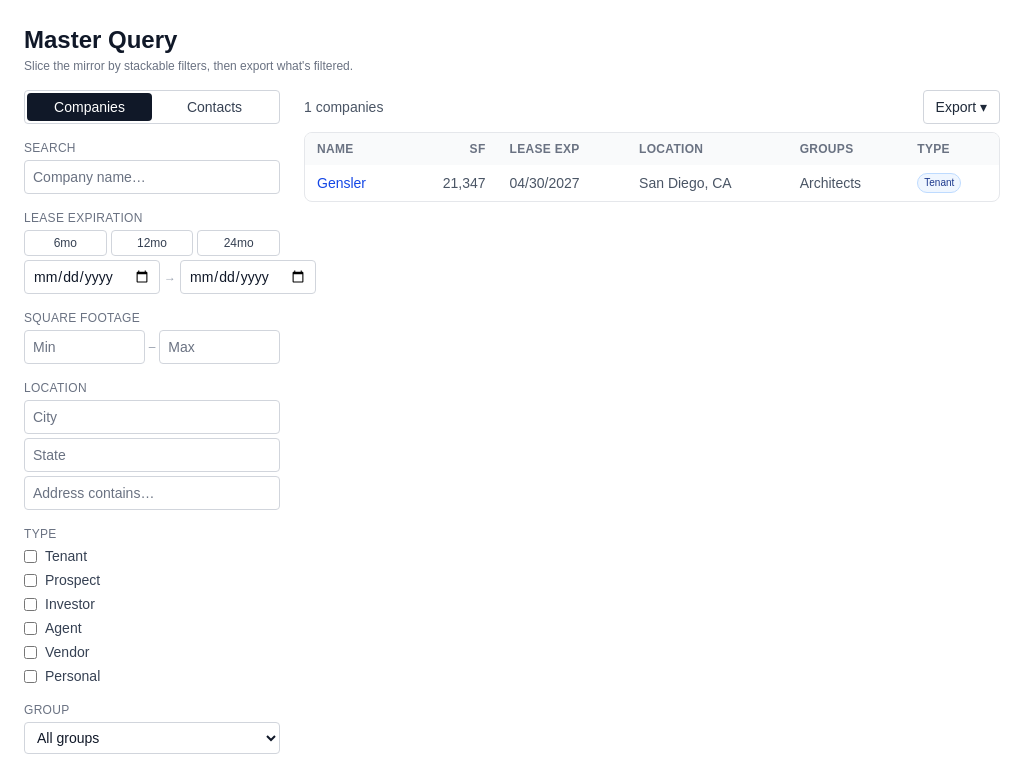
it: Master Query page › Export button is enabled with results and disabled when the set is empty
Expected: the link "Gensler" is shown, top-left (317, 175), bottom-right (366, 191)
Expected: the button "Export ▾" is enabled, top-left (923, 90), bottom-right (1000, 124)
Type "none" into the field with placeholder "Company name…" at (152, 177), box top-left (24, 160), bottom-right (280, 194)
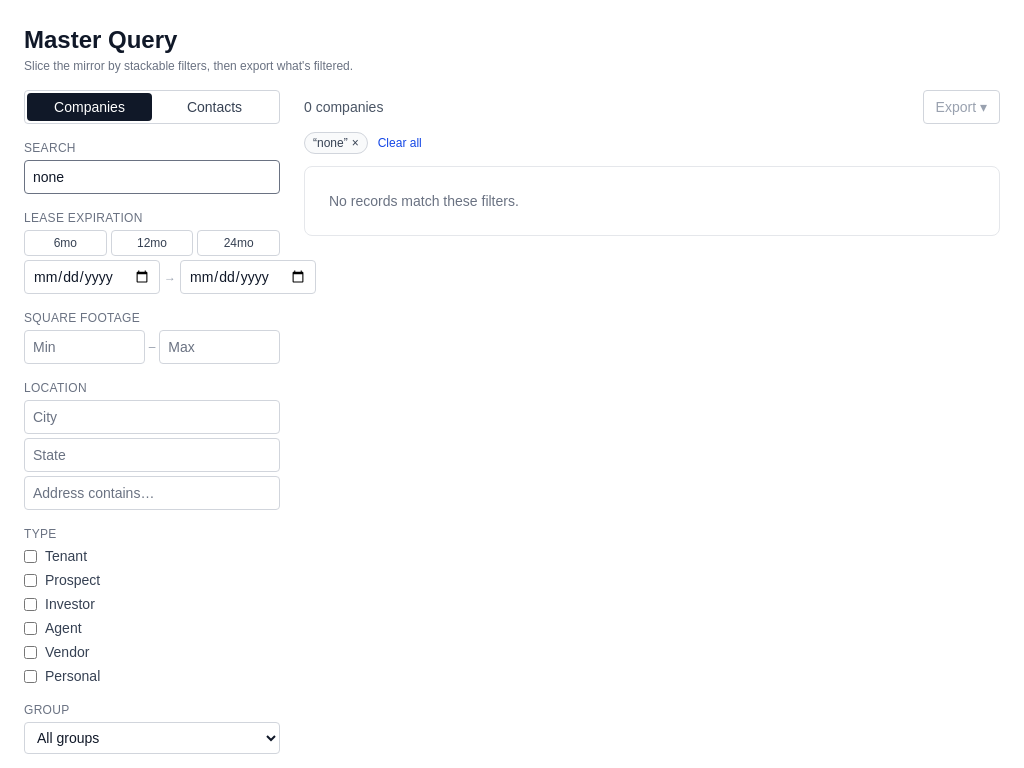
Now the text "No records match these filters." is shown, box top-left (304, 166), bottom-right (1000, 236)
Now the button "Export ▾" is disabled, box top-left (923, 90), bottom-right (1000, 124)
